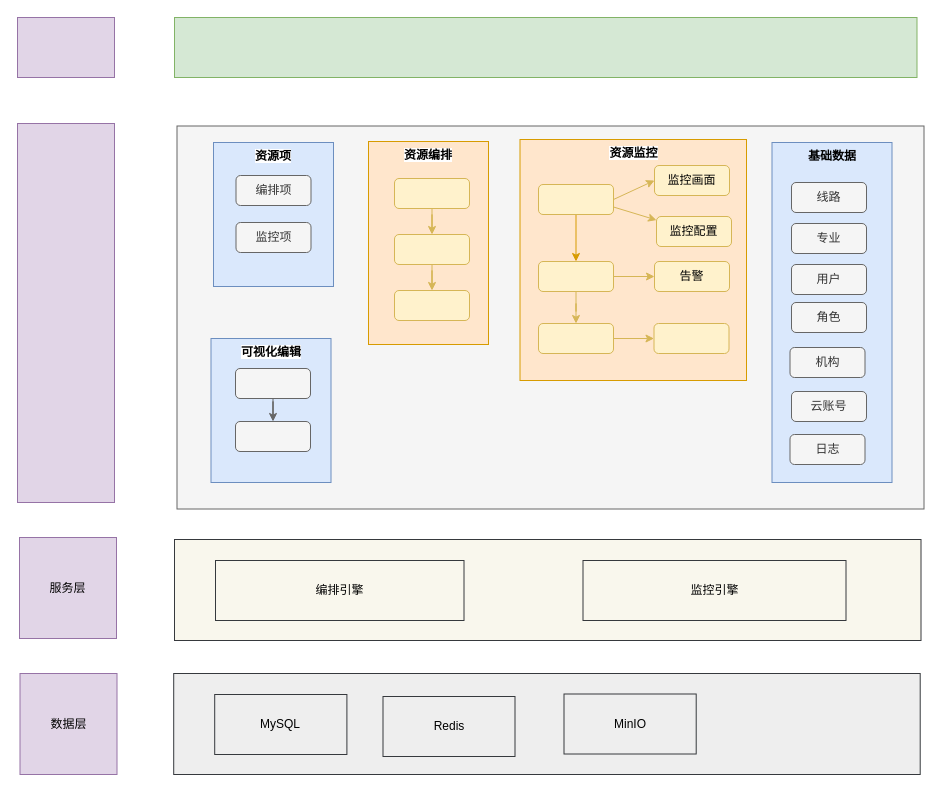
Some shapes in this 942 by 792 pixel diagram are drawn without their labels. Each missing label, with the centre of its shape:
"展现层" belongs at pixel 65 47.
"应用层" belongs at pixel 65 312.
"执行计划" belongs at pixel 432 249.
"数据存储" belongs at pixel 576 338.
"数据展示" belongs at pixel 691 338.
"浏览器" belongs at pixel 545 47.
"监控架构" belongs at pixel 272 436.
"监控模板" belongs at pixel 576 199.
"编排架构" belongs at pixel 272 383.
"编排模板" belongs at pixel 432 193.
"资源栈" belongs at pixel 432 305.
"采集器" belongs at pixel 576 276.
